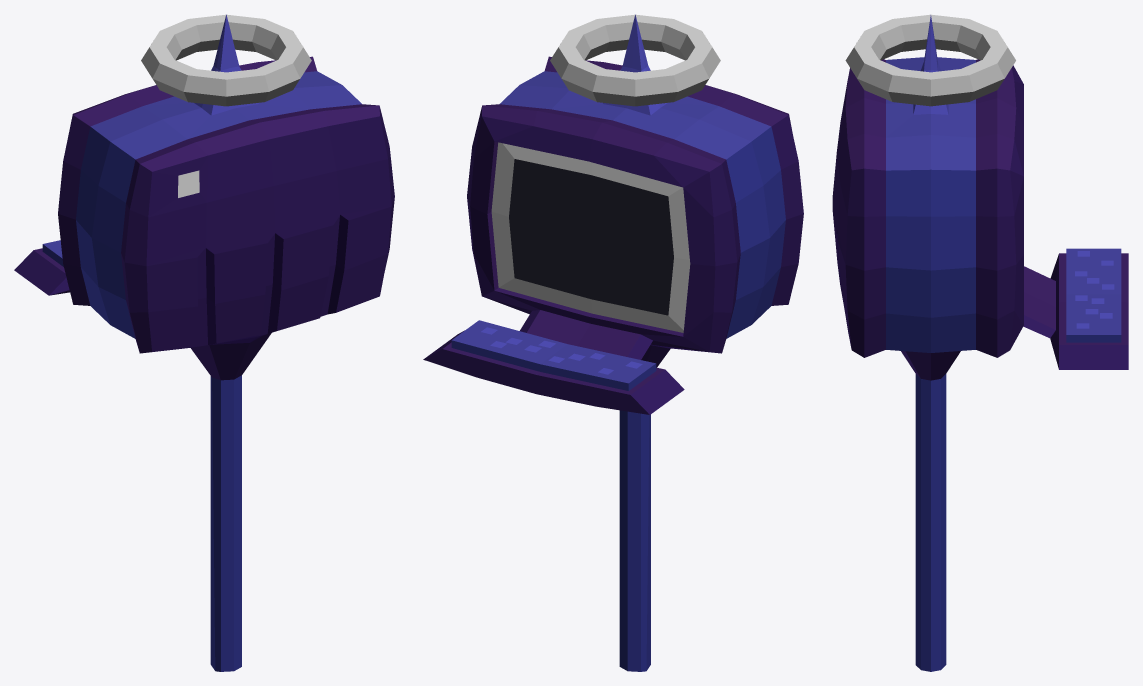
The model's file is Model_Terminal_Straight.fbx.
The picture shows the model from 3 angles, left to right: view 1: azimuth 30°, elevation 25°; view 2: azimuth 150°, elevation 25°; view 3: azimuth 270°, elevation 25°; orthographic projection.
Visible parts, largest first — view 1: Terminal, Terminal_color; view 2: Terminal, Terminal_color; view 3: Terminal, Terminal_color.
Part boxes in pixels (x1,y1,x2,y2): Terminal: (14, 14, 394, 671); Terminal_color: (141, 14, 311, 106); Terminal: (423, 14, 803, 671); Terminal_color: (491, 14, 720, 332); Terminal: (832, 15, 1128, 671); Terminal_color: (845, 14, 1015, 106).
Bounding box in the file's own units: 199 × 460 × 189.
